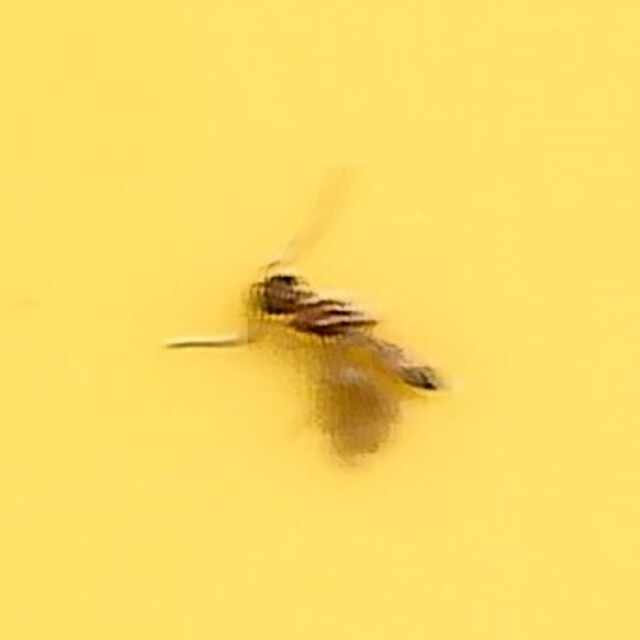Hymenoptera: (188, 181, 452, 459)
